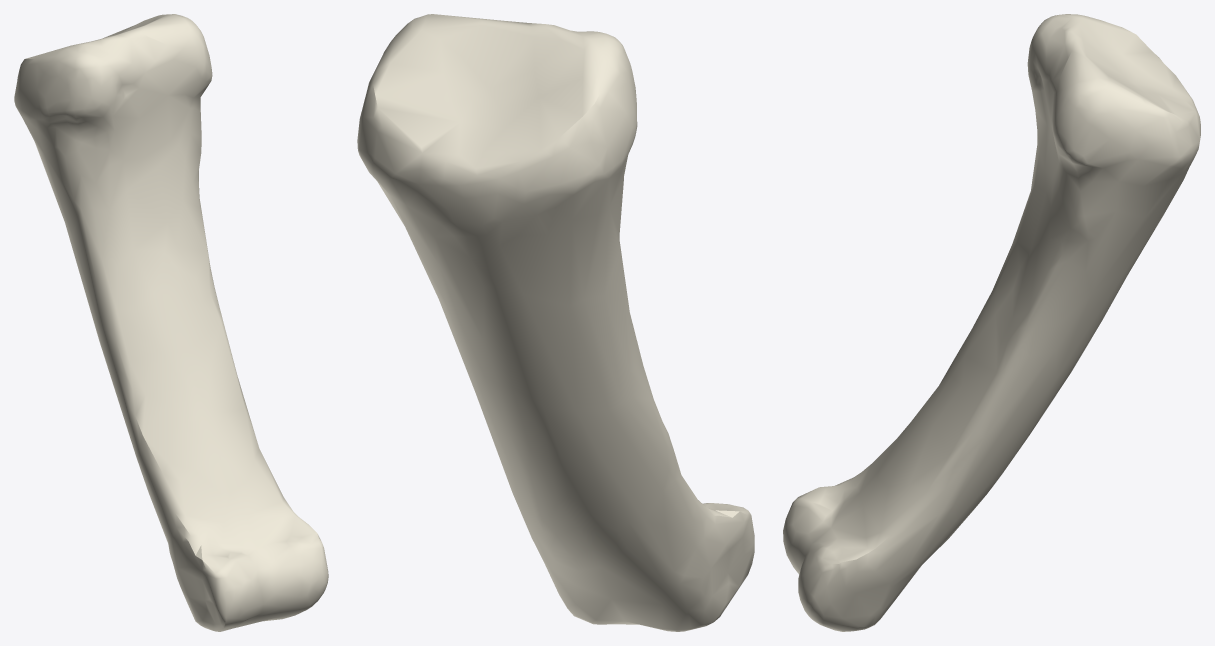
Rendered from fma71916.glb.
3 views of the same model, side by side, from view 1: azimuth 30°, elevation 25°; view 2: azimuth 150°, elevation 25°; view 3: azimuth 270°, elevation 25° (orthographic). The views are drawn at different scales.
Parts seen in each view (by area): view 1: FMA71916; view 2: FMA71916; view 3: FMA71916.
Part boxes in pixels (x1,y1,x2,y2): FMA71916: [14, 14, 328, 631]; FMA71916: [357, 14, 754, 631]; FMA71916: [783, 14, 1200, 631].
Bounding box in the file's own units: 0.0137 × 0.0393 × 0.0264.
